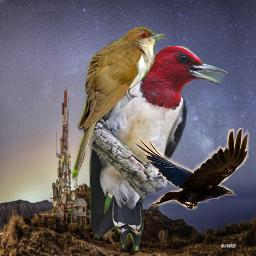Crow: (133, 128, 250, 210)
Cuckoo: (72, 25, 166, 183)
Woodpecker: (84, 46, 232, 251)
